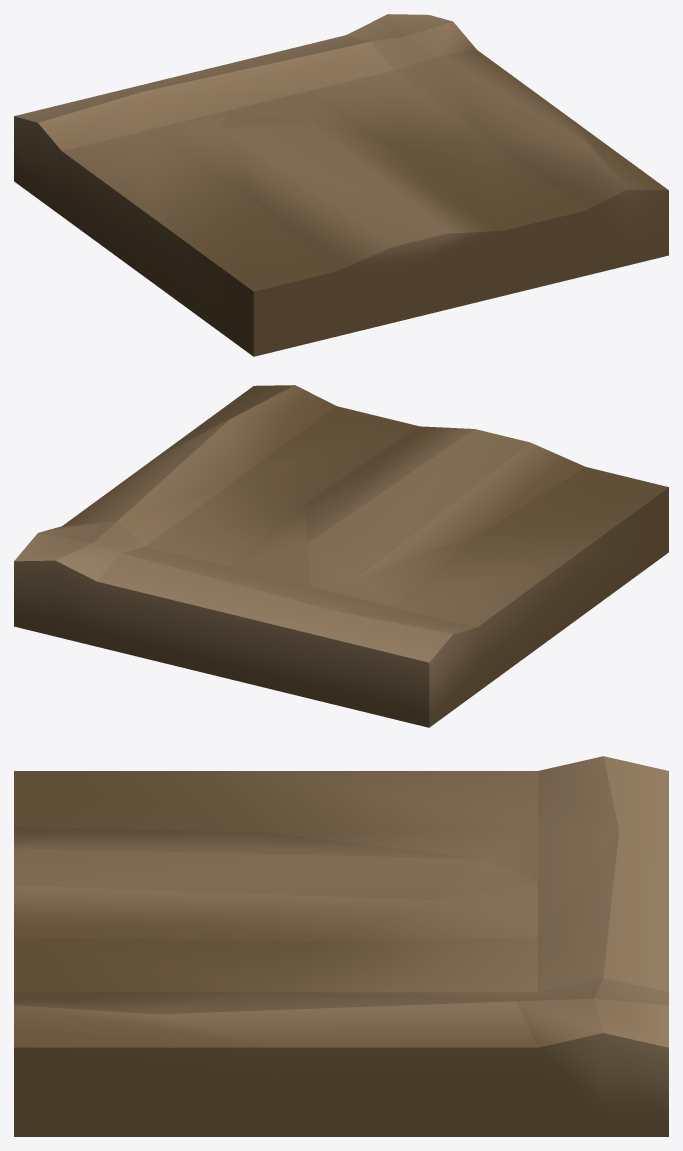
The model's file is Farmland_Soil_CornerR.fbx.
3 views of the same model, one above another, from view 1: azimuth 30°, elevation 25°; view 2: azimuth 150°, elevation 25°; view 3: azimuth 270°, elevation 25° (orthographic). The views are drawn at different scales.
Visible parts, largest first — view 1: Farmland_Soil_CornerR.003; view 2: Farmland_Soil_CornerR.003; view 3: Farmland_Soil_CornerR.003.
Part boxes in pixels (x1,y1,x2,y2): Farmland_Soil_CornerR.003: (14, 14, 668, 356); Farmland_Soil_CornerR.003: (14, 385, 668, 727); Farmland_Soil_CornerR.003: (14, 756, 668, 1136).
Bounding box in the file's own units: 2 × 0.35 × 2.
Materials: 1 (1 with a texture image).
